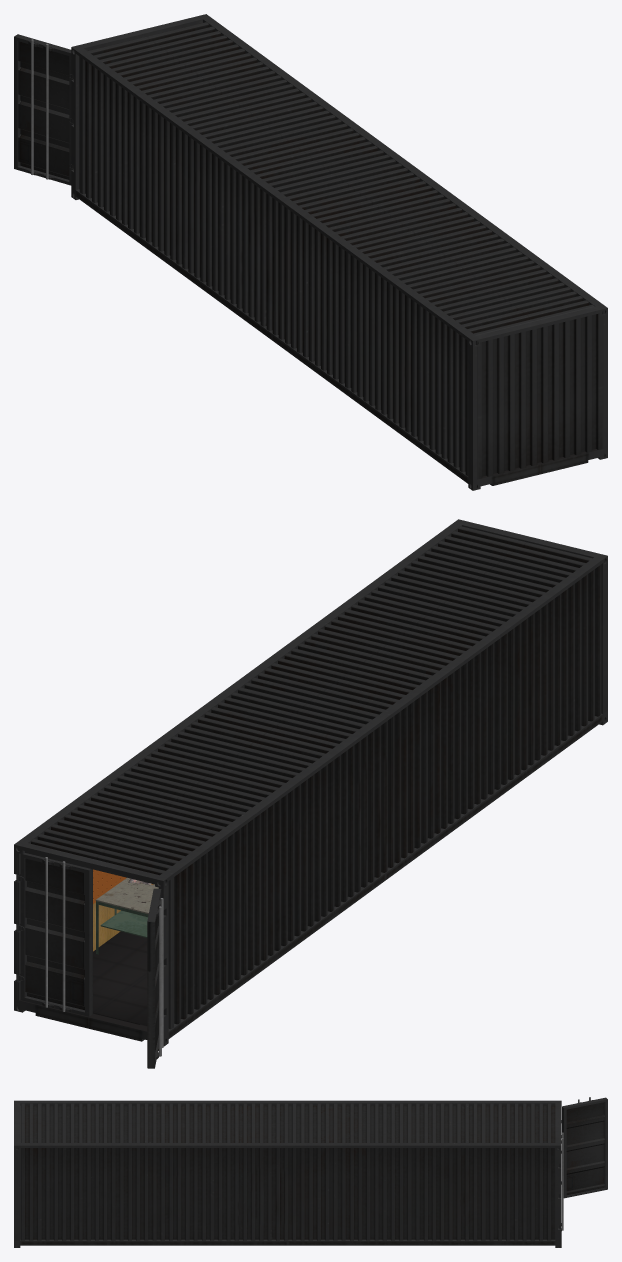
The picture shows the model from 3 angles, top to bottom: view 1: azimuth 30°, elevation 25°; view 2: azimuth 150°, elevation 25°; view 3: azimuth 270°, elevation 25°; orthographic projection. The views are drawn at different scales.
Parts seen in each view (by area): view 1: container_main, container_door_02; view 2: container_main, container_door_01, container_door_02, Cube.001_Cube; view 3: container_main, container_door_02, container_door_01.
Boxes of the visible parts, bbox=[...] form: container_main: bbox=[71, 14, 607, 490]; container_door_02: bbox=[14, 34, 73, 185]; container_main: bbox=[14, 519, 607, 1046]; container_door_01: bbox=[16, 853, 92, 1016]; container_door_02: bbox=[147, 888, 163, 1068]; Cube.001_Cube: bbox=[95, 877, 158, 954]; container_main: bbox=[14, 1100, 561, 1247]; container_door_02: bbox=[561, 1097, 607, 1198]; container_door_01: bbox=[558, 1132, 563, 1230].
Size of the model in its own units: 3.24 by 2.9 by 15.28.
Materials: 24 (21 with a texture image).
